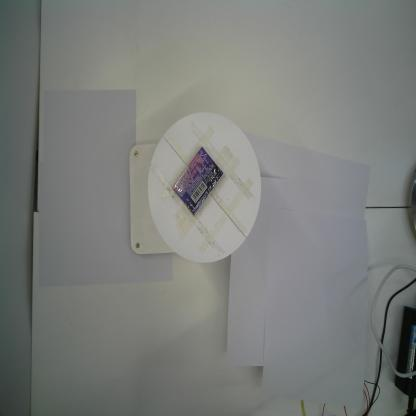Gum: (172, 145, 224, 217)
